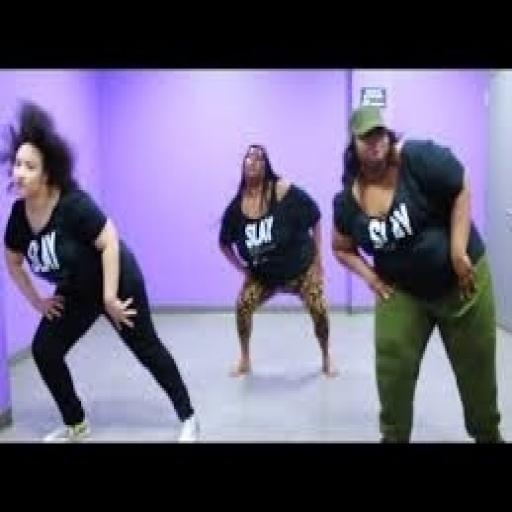dancing: (0, 100, 204, 444), (330, 100, 506, 446), (216, 140, 336, 383)
